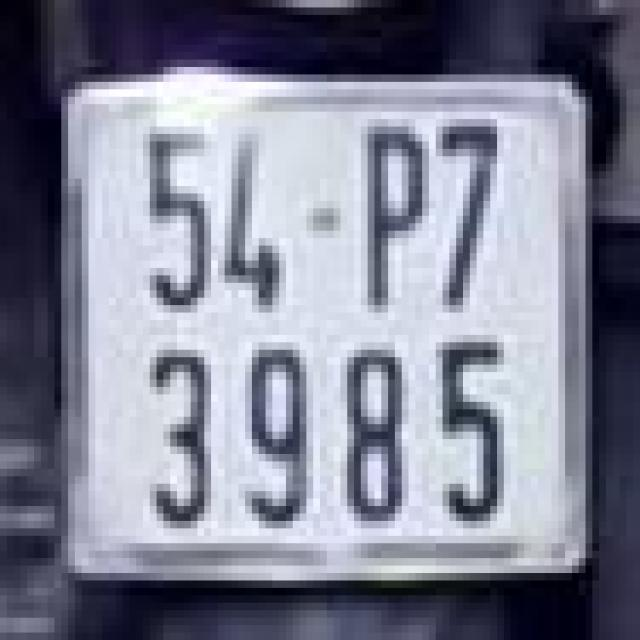3: (136, 342, 218, 544)
4: (211, 108, 286, 331)
5: (426, 328, 528, 528), (133, 119, 214, 320)
7: (432, 108, 514, 324)
8: (337, 335, 412, 536)
9: (232, 335, 313, 536)
P: (354, 112, 429, 320)
